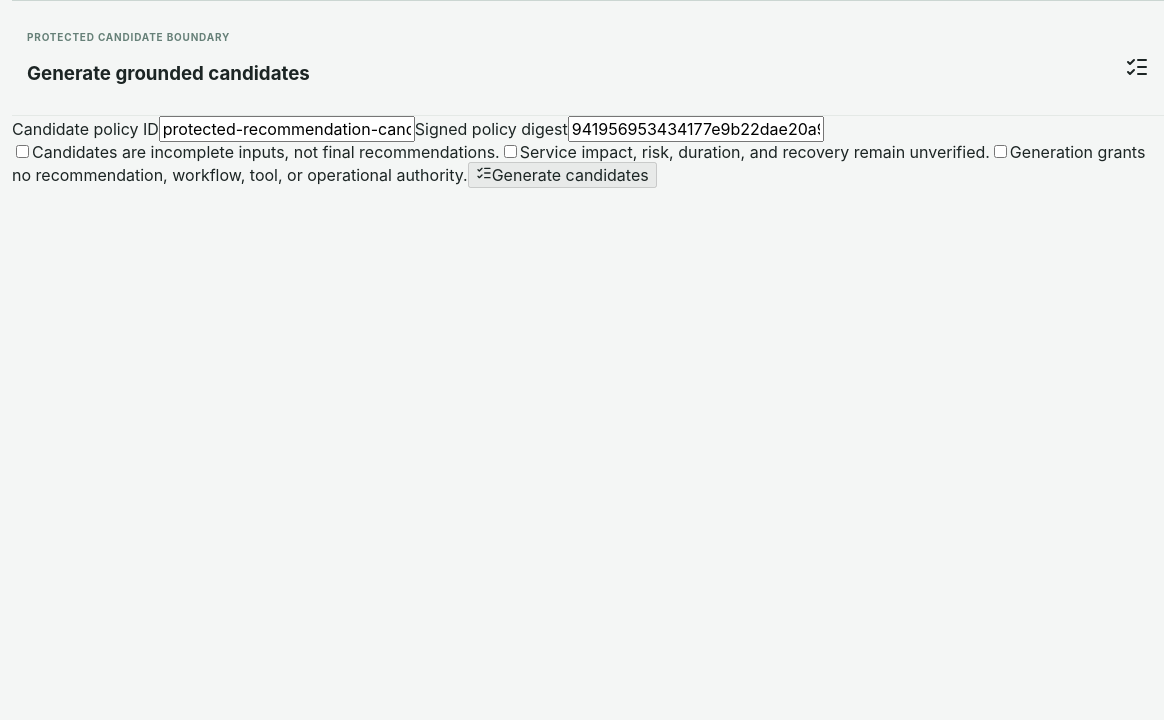
ProtectedRecommendationCandidatePanel › generates only a private bounded candidate manifest
Expected: the button "Generate candidates" is disabled, [468,162,657,188]
Click the checkbox labelled "Candidates are incomplete inputs, not final recommendations.". click: (22, 152)
box: [16,145,29,158]
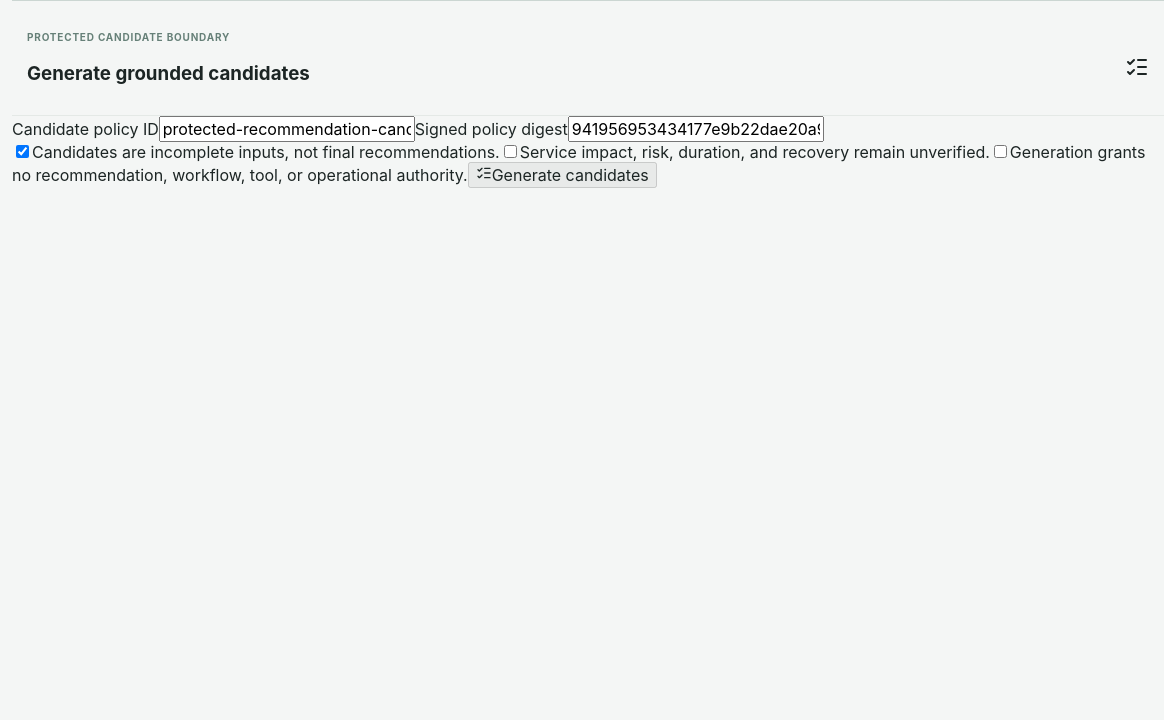
Click the checkbox labelled "Service impact, risk, duration, and recovery remain unverified.". click: (510, 152)
box: [504,145,517,158]
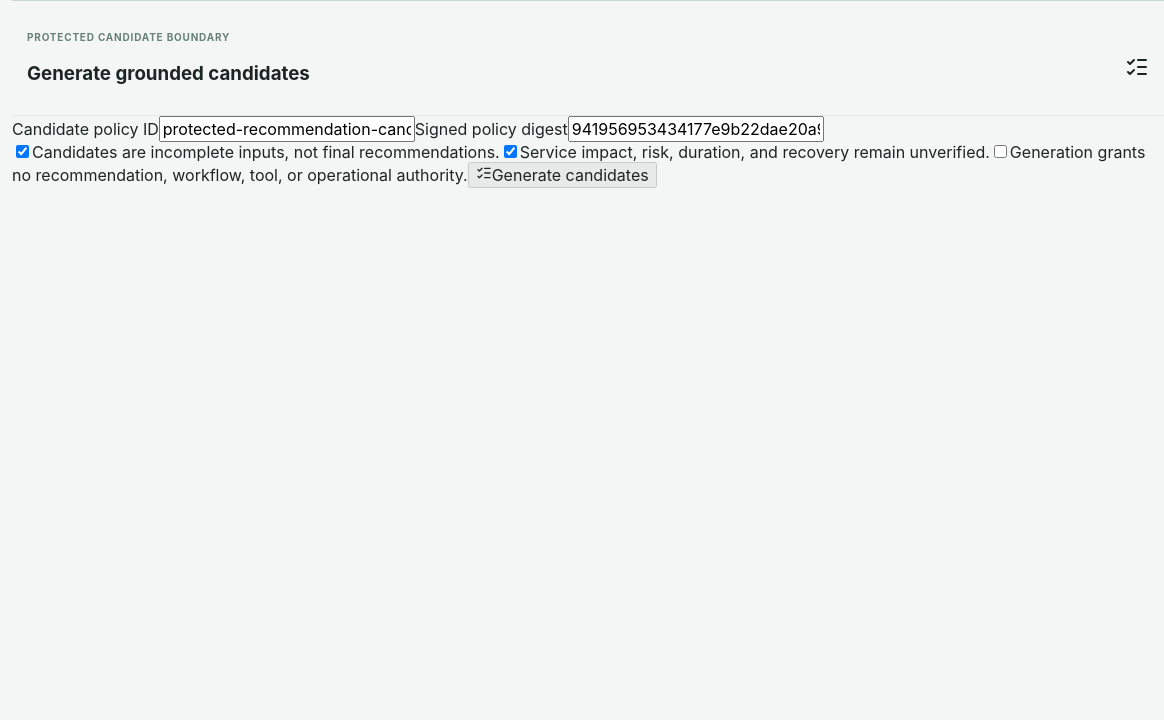
Click the checkbox labelled "Generation grants no recommendation, workflow, tool, or operational authority.". click: (1000, 152)
box: [994,145,1007,158]
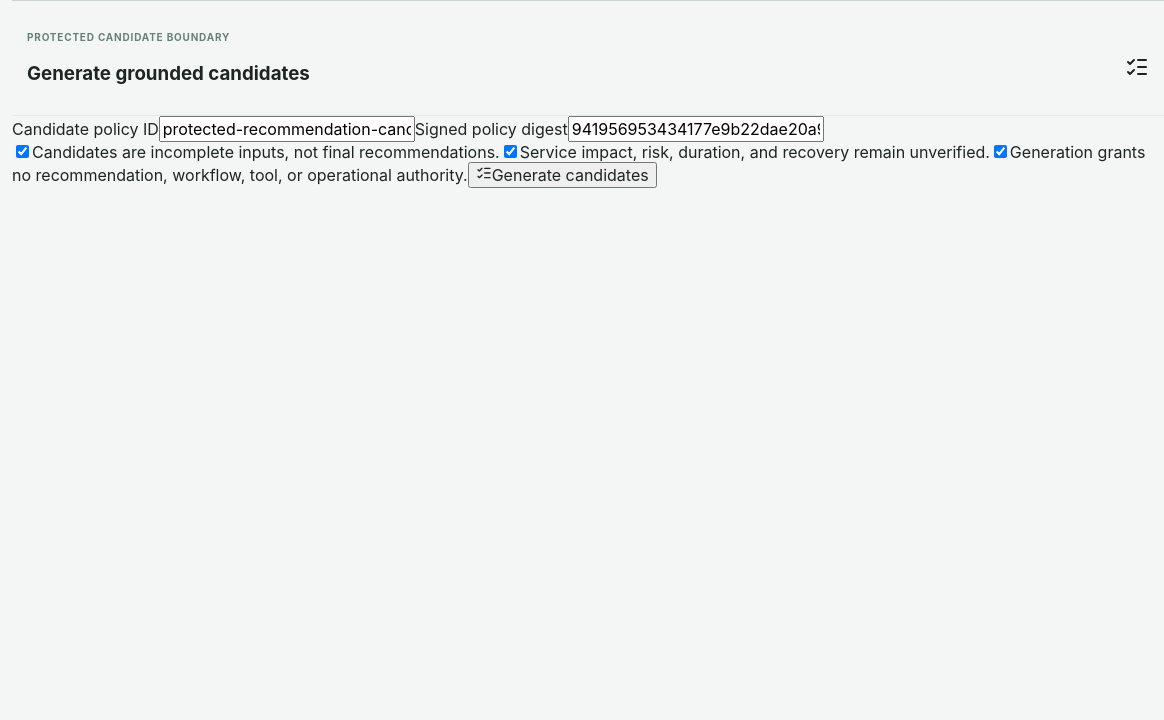
Expected: the button "Generate candidates" is enabled
Click the button "Generate candidates". click: (562, 175)
box: [468,162,657,188]
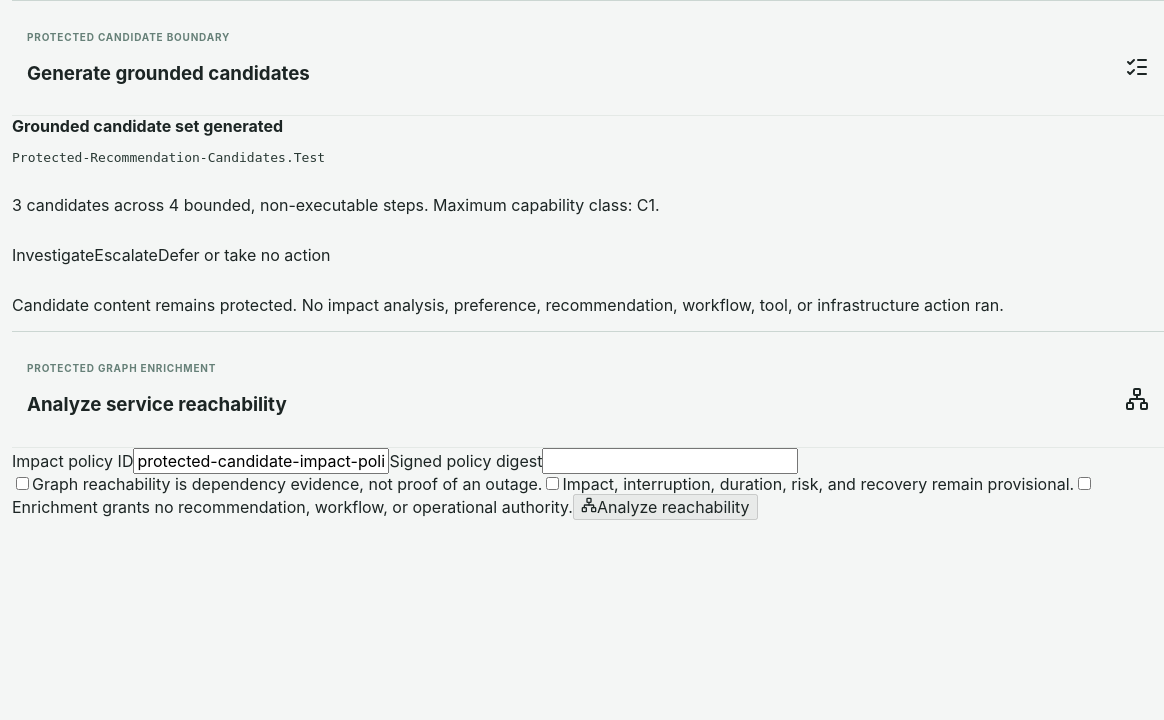
Expected: the text "Grounded candidate set generated" is shown, [12,116,283,136]
Expected: the text "Investigate" is shown, [12,245,94,265]
Expected: the text "Escalate" is shown, [94,245,158,265]
